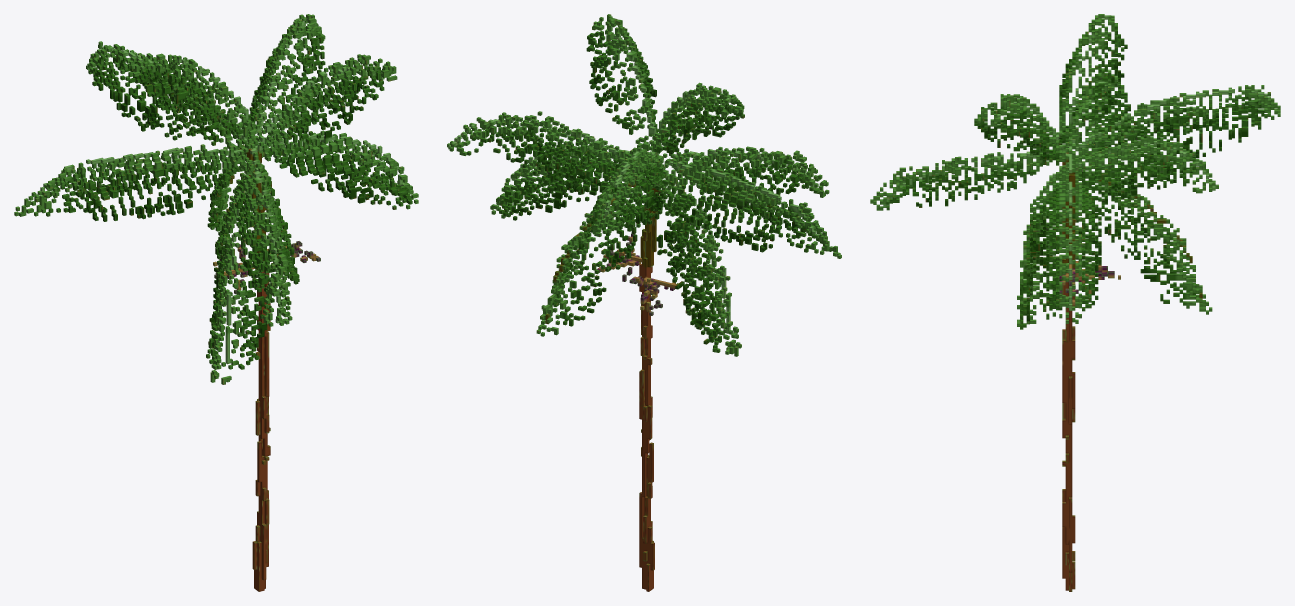
Rendered from Acaizeiro1.fbx.
The picture shows the model from 3 angles, left to right: view 1: azimuth 30°, elevation 25°; view 2: azimuth 150°, elevation 25°; view 3: azimuth 270°, elevation 25°; orthographic projection. The views are drawn at different scales.
Visible parts, largest first — view 1: Açaizeiro1; view 2: Açaizeiro1; view 3: Açaizeiro1.
Boxes of the visible parts, x1=… form: Açaizeiro1: x1=14, y1=14, x2=418, y2=591; Açaizeiro1: x1=447, y1=14, x2=841, y2=591; Açaizeiro1: x1=870, y1=14, x2=1280, y2=591.
Size of the model in its own units: 1310 by 1790 by 1260.
